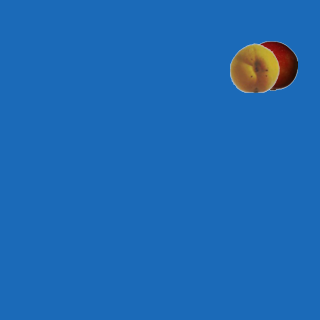Apple Braeburn: (247, 40, 297, 90)
Peach 2: (229, 42, 279, 92)
